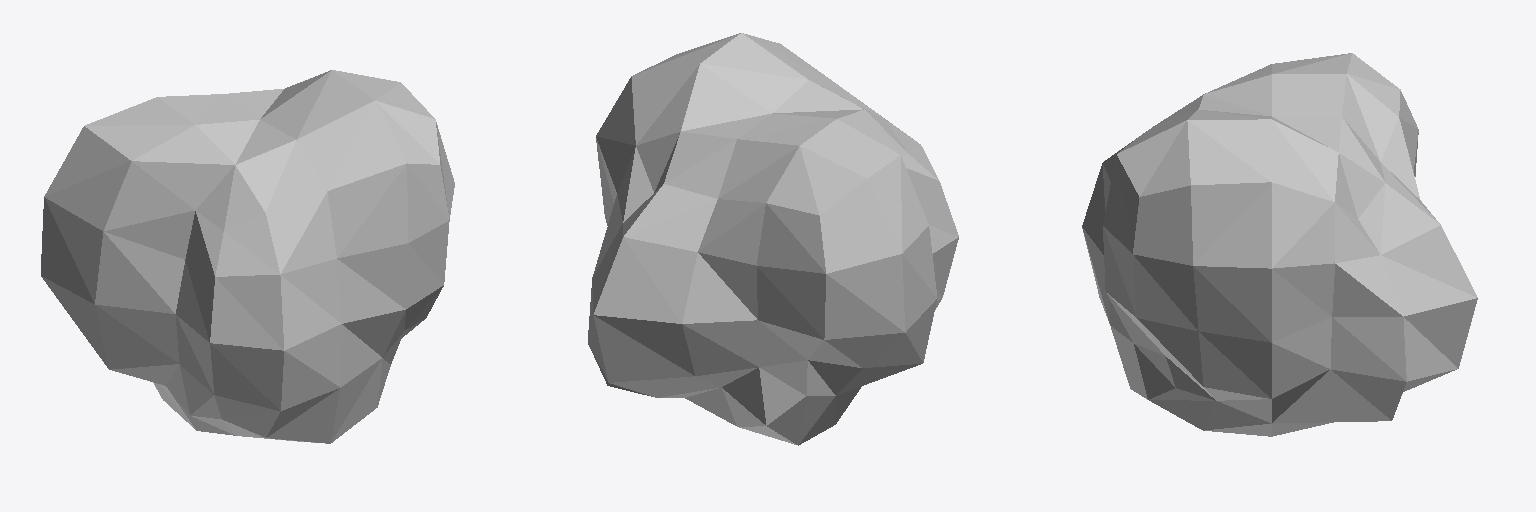
Rendered from Rock2.obj.
3 renders of one model, left to right at view 1: azimuth 30°, elevation 25°; view 2: azimuth 150°, elevation 25°; view 3: azimuth 270°, elevation 25°, orthographic.
Visible parts, largest first — view 1: Cube; view 2: Cube; view 3: Cube.
Part boxes in pixels (x1,y1,x2,y2): Cube: (41, 70, 454, 443); Cube: (588, 33, 958, 445); Cube: (1082, 53, 1477, 436).
Size of the model in its own units: 1.59 by 1.48 by 1.55.